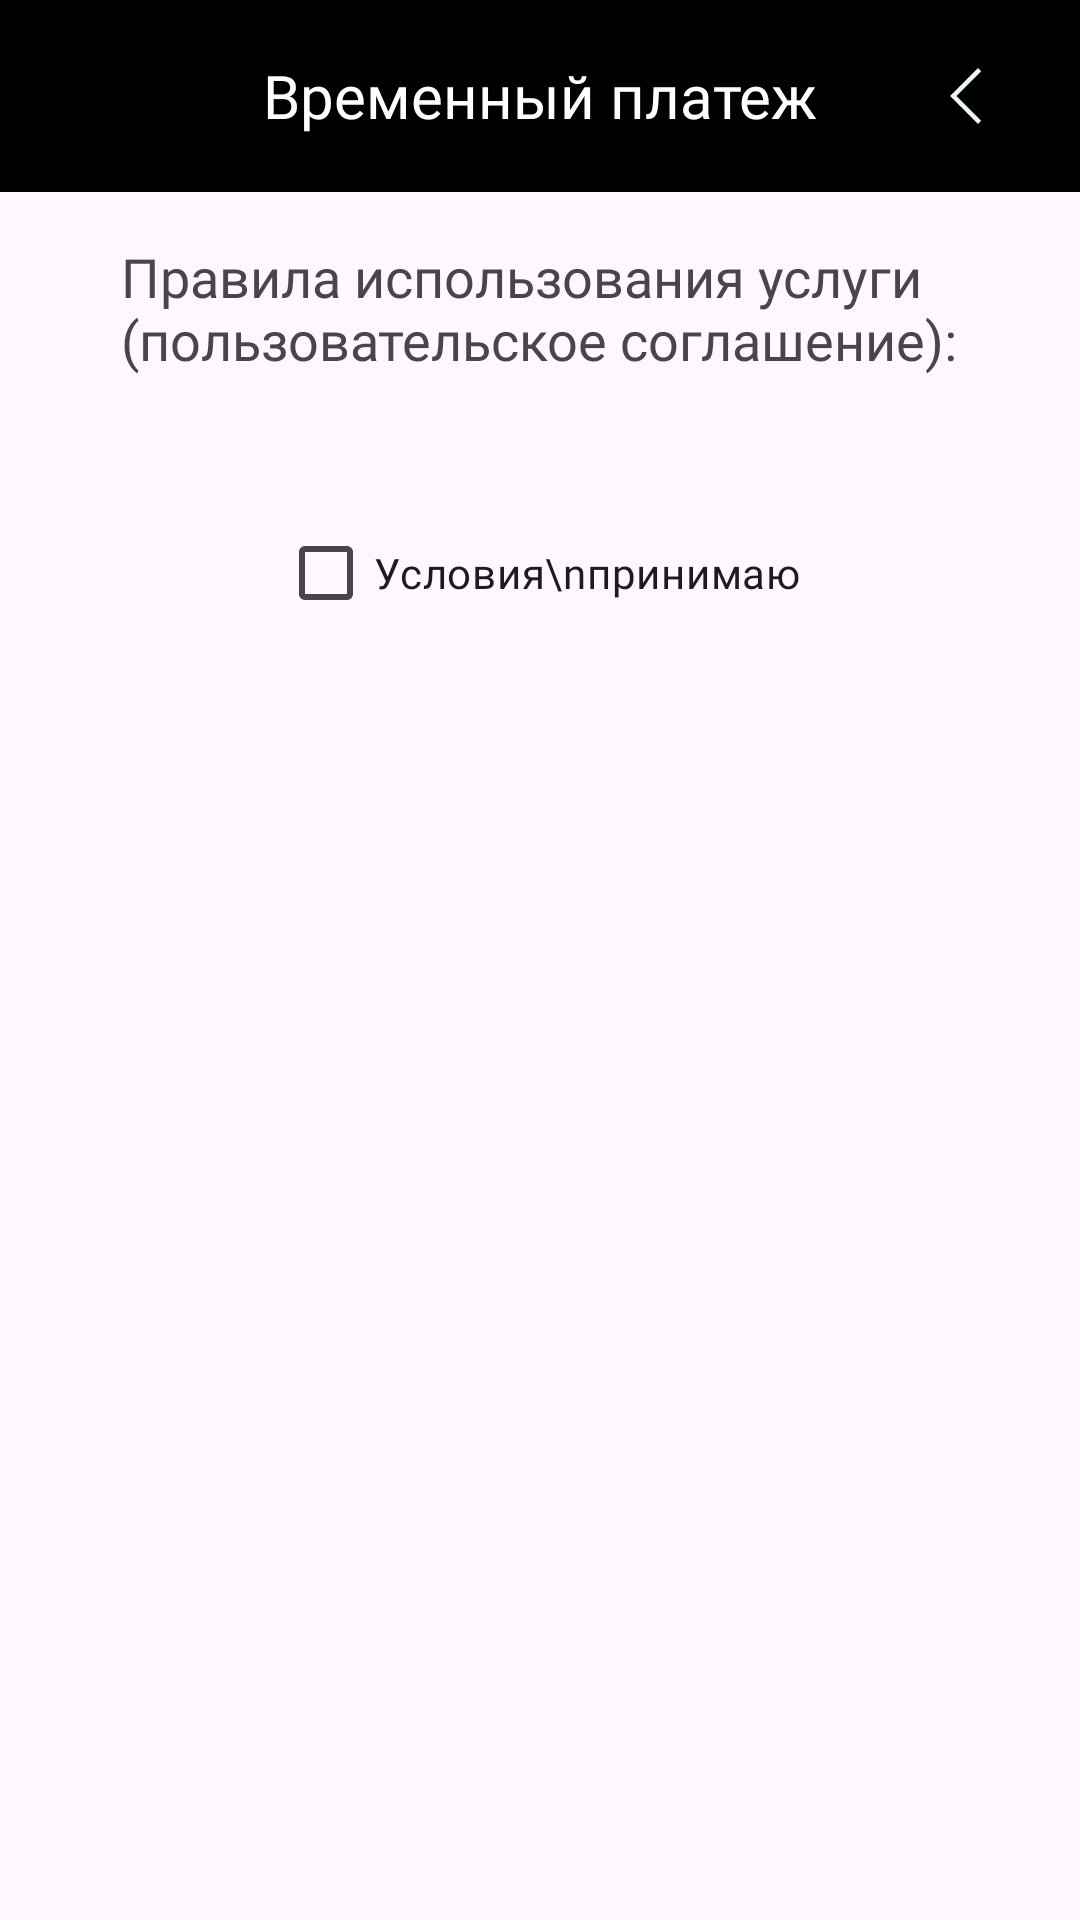

Screen size 1080 × 1920. Icon name, then its box in pixels as (x1, y1, x2, y2):
back: (950, 68, 981, 124)
